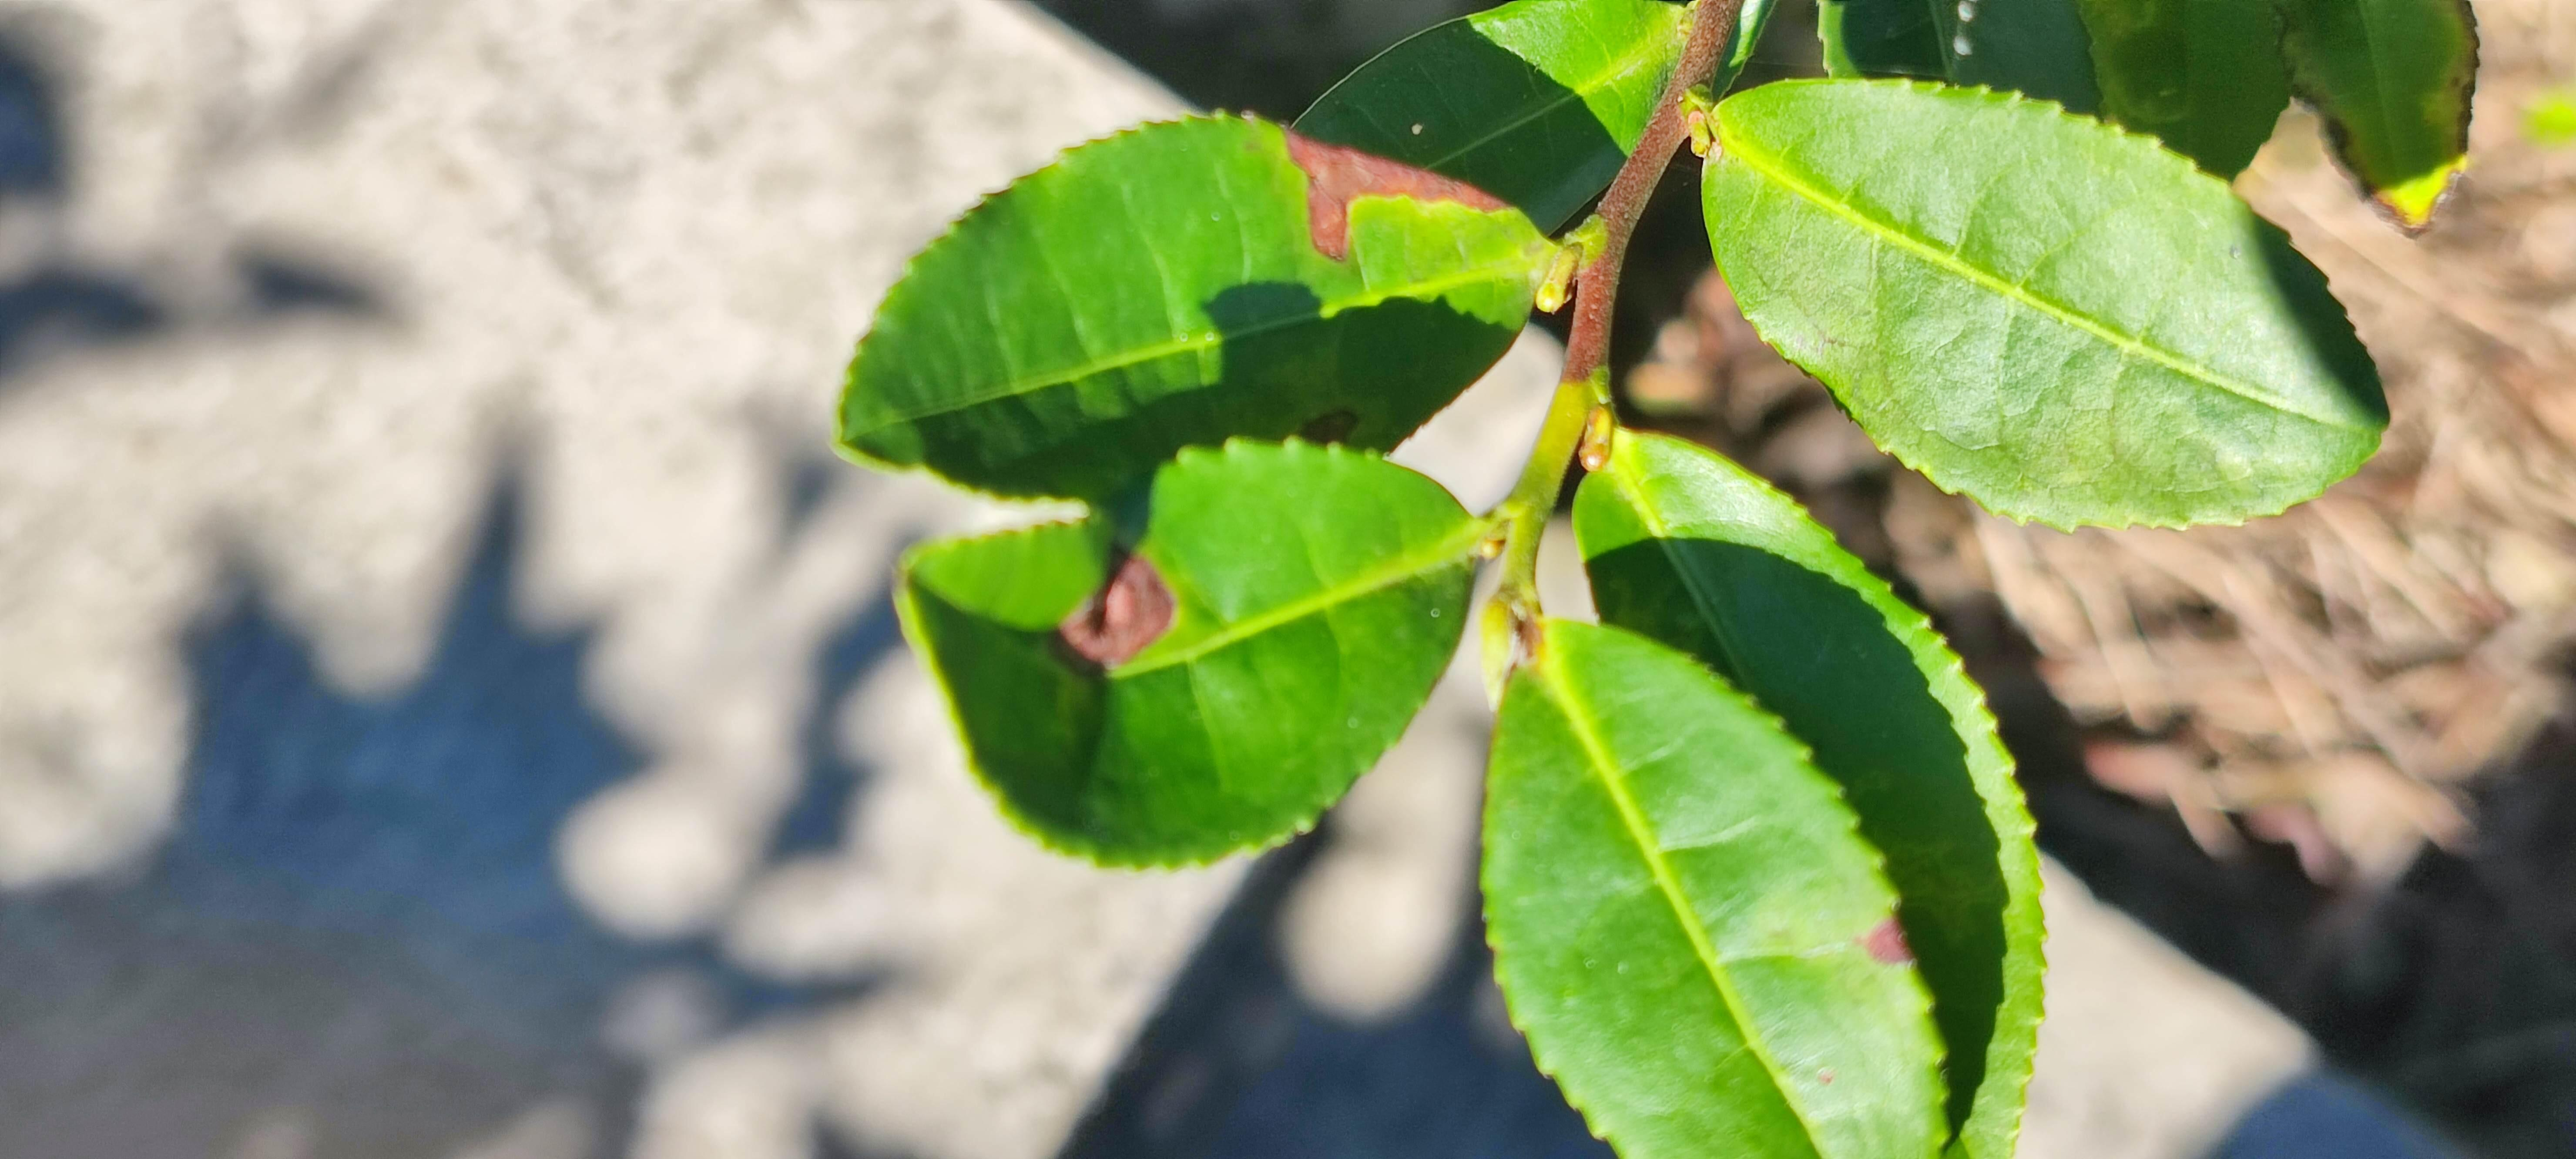healthy: (1692, 69, 2403, 535)
tanju_high: (831, 100, 1562, 502), (1480, 624, 1960, 1159), (899, 432, 1483, 867)
